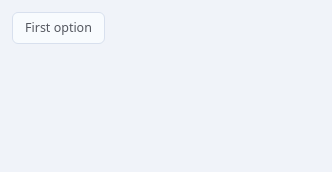
it: says whether it is pressed, and a press changes that
This screenshot has width=332, height=172.
Click the button "First option" at {"x": 58, "y": 28}, box [12, 12, 105, 44]
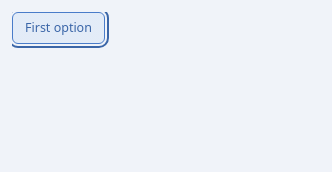
Now the button "First option" is pressed
Click the button "First option" at {"x": 58, "y": 28}, box [12, 12, 105, 44]
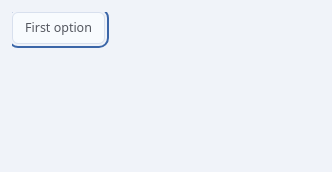
Now the button "First option" is not pressed, box [12, 12, 105, 44]
